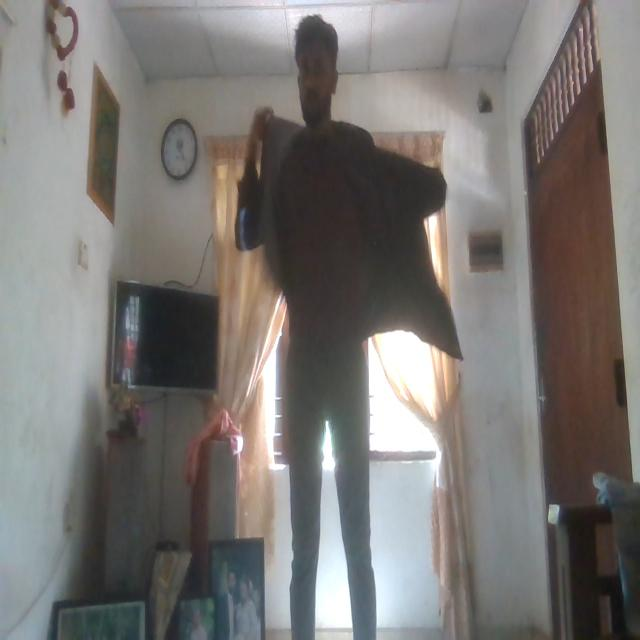Jacket_Wearer: (220, 105, 451, 367)
Person: (253, 19, 392, 640)
